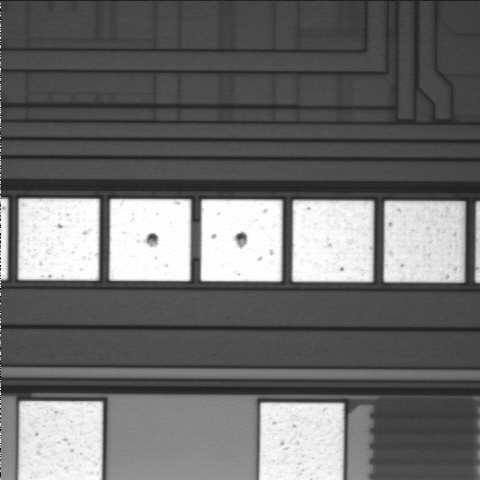pad: (109, 199, 191, 281), (292, 200, 374, 282), (201, 199, 282, 281), (18, 199, 99, 280), (384, 201, 465, 282)
